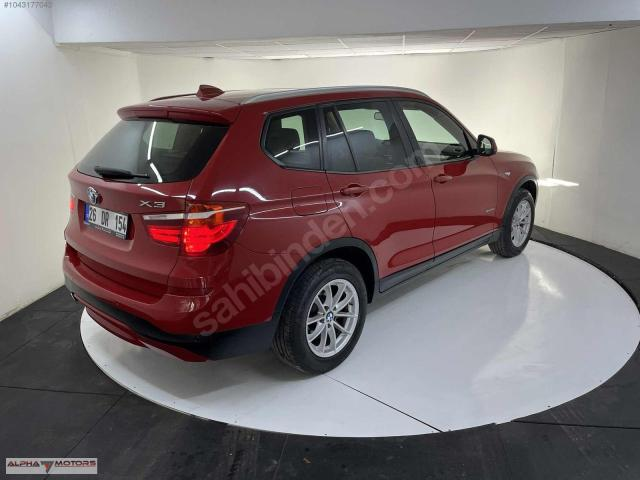plaka: (84, 204, 128, 238)
